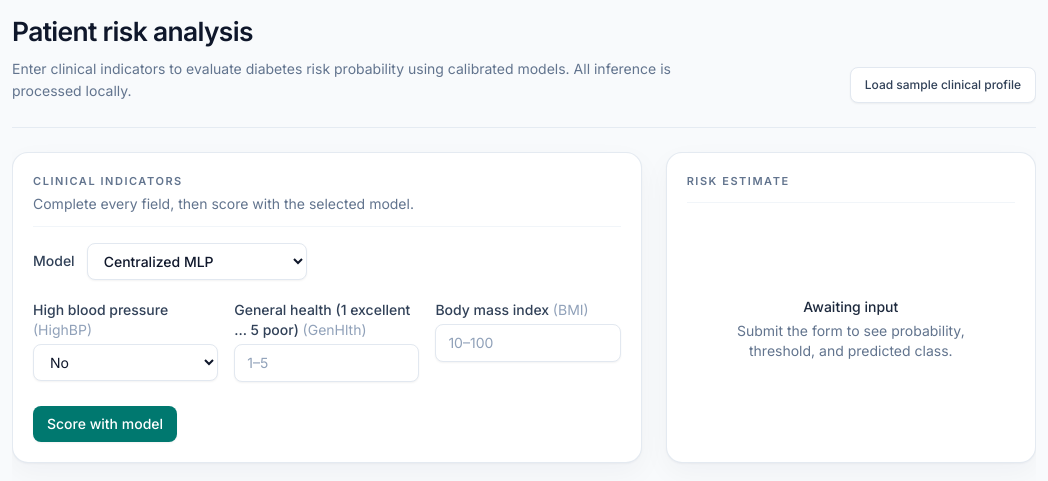
it: Demo form › surfaces backend validation errors
In the field labelled "Body mass index (BMI)": (528, 343) [435,324,621,362], type "31"
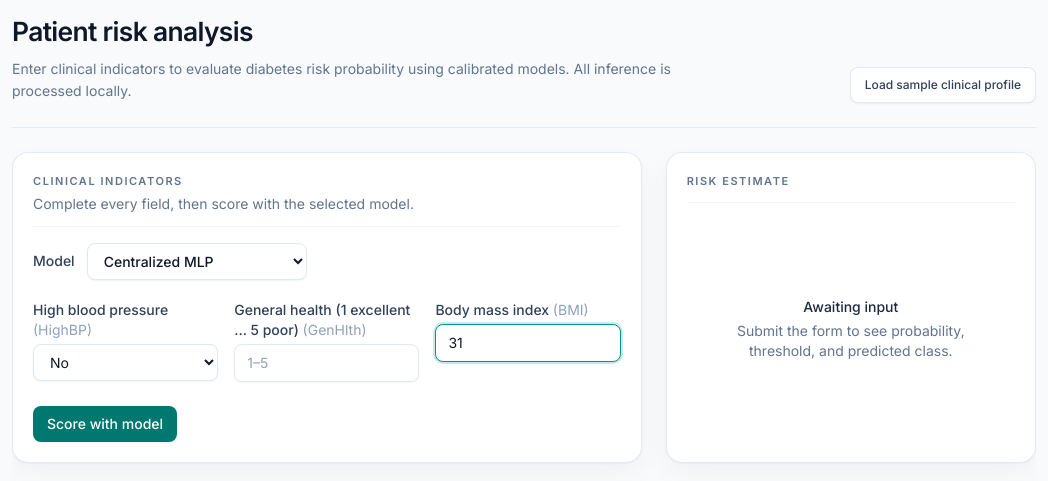
In the field labelled "General health (1 excellent … 5 poor) (GenHlth)": (327, 363) [234,344,419,382], type "3"
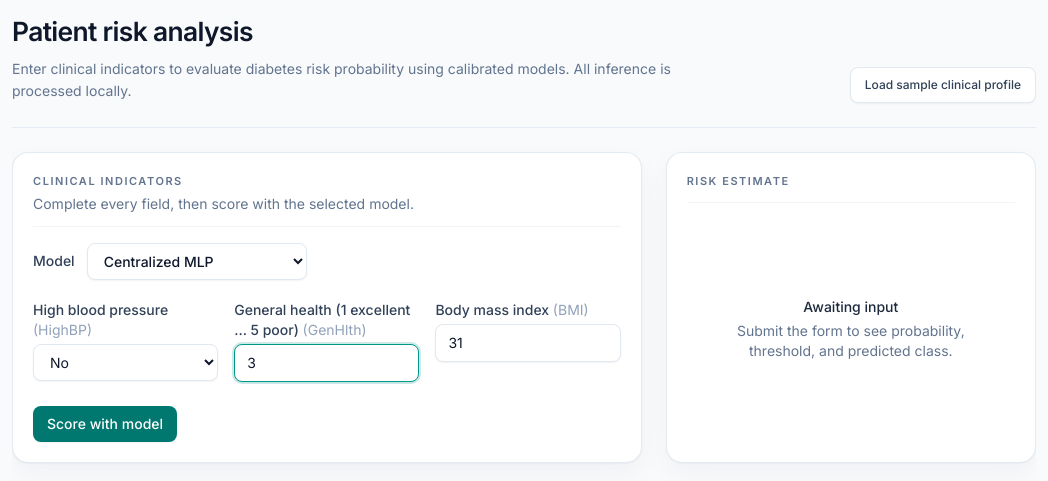
Click the button "Score with model": (105, 424) [33,406,177,442]
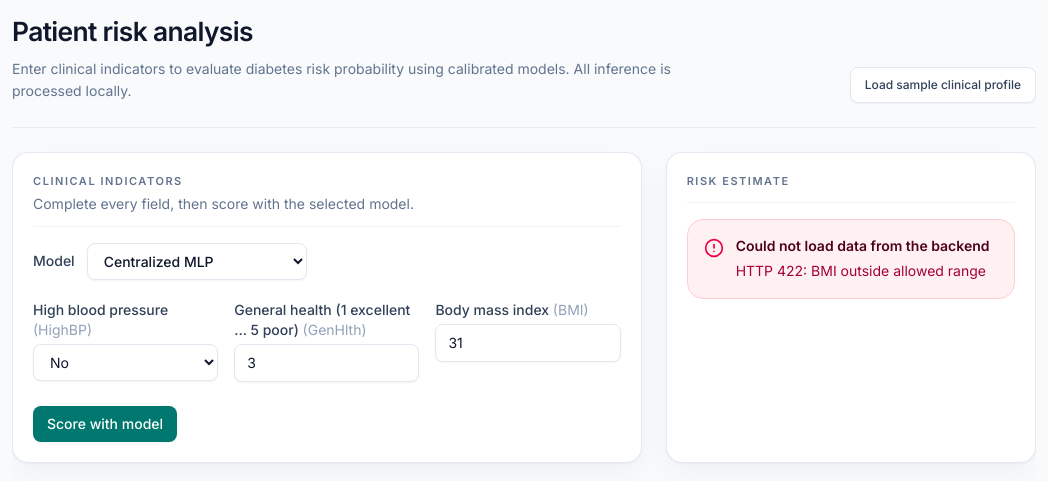
Check: the message shows "HTTP 422: BMI outside allowed range", box [736,262,986,279]
